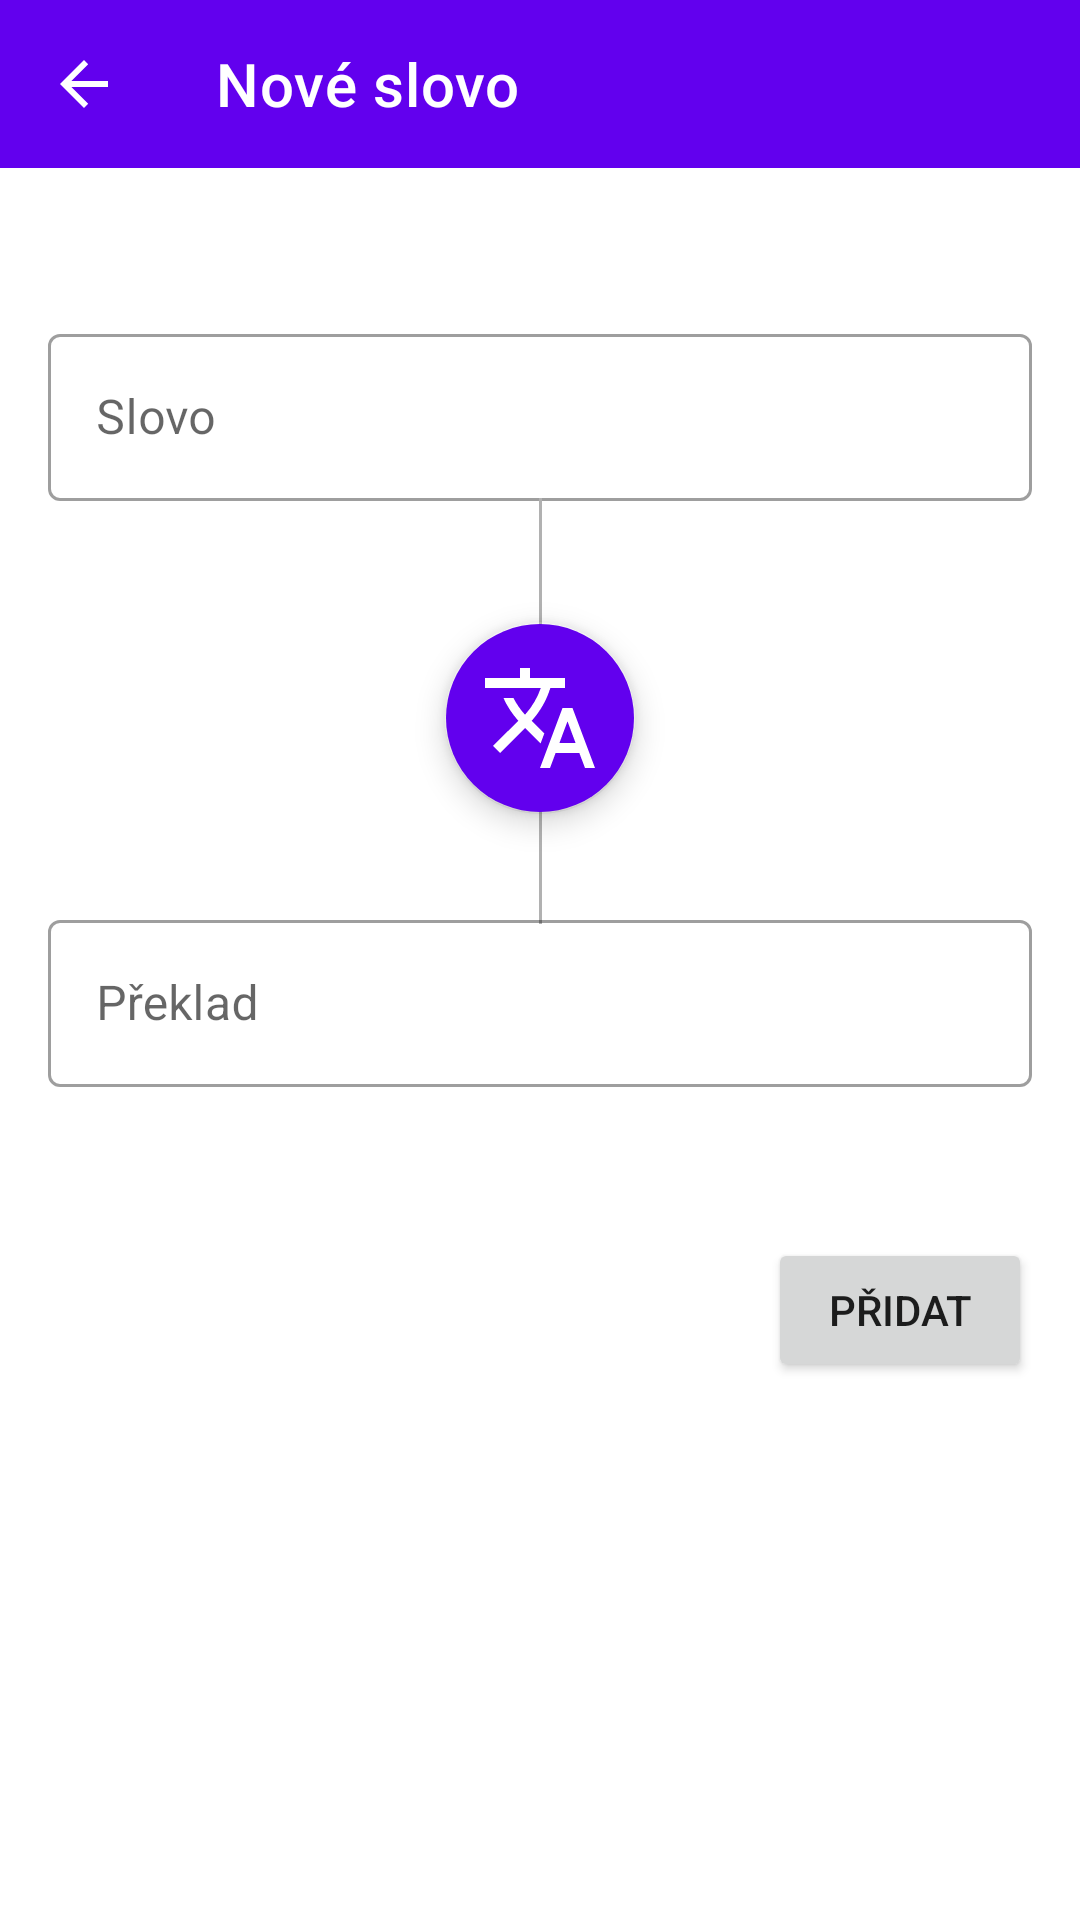

Screen size 1080px×1920px. Icon name, then its center in pixels as point (x, y):
translate: point (540, 718)
